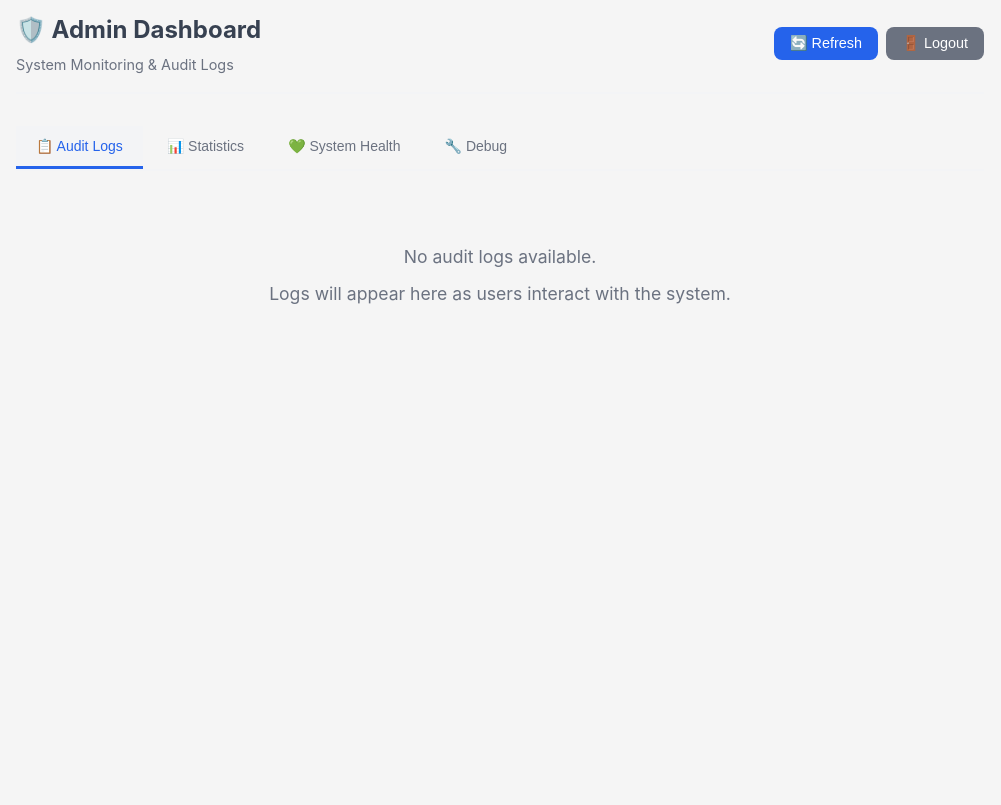
it: AdminPanel › Debug Tab › displays Harmony debug data correctly
Note: Switch to Debug tab
Click the button "🔧 Debug": (476, 148) [424,126,527,169]
(page scrolled)
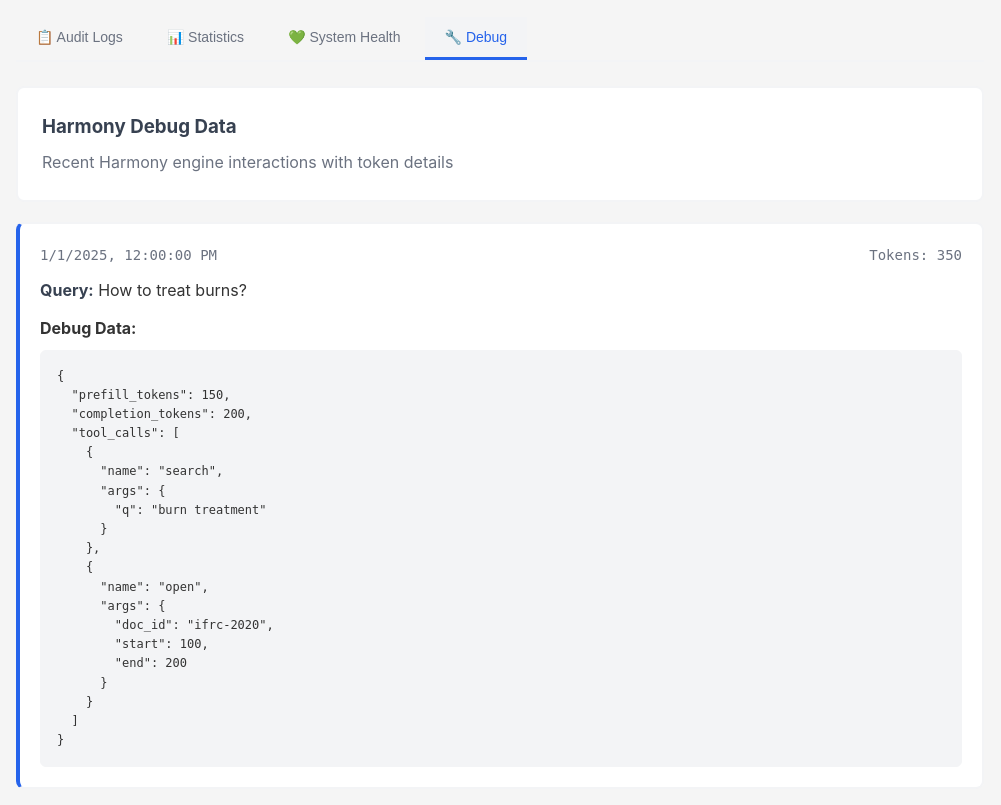
Expected: the heading "Harmony Debug Data" is shown, [42,115,237,138]
Expected: the text "How to treat burns?" is shown, [98,280,247,300]
Expected: the text "Tokens: 350" is shown, [869,244,962,266]
